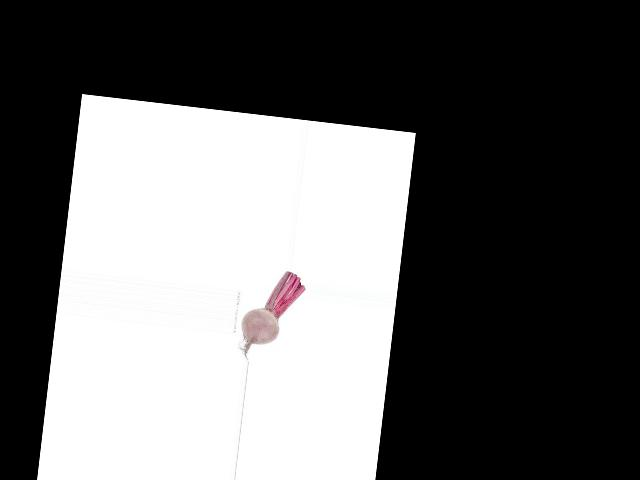beet: (237, 266, 306, 365)
